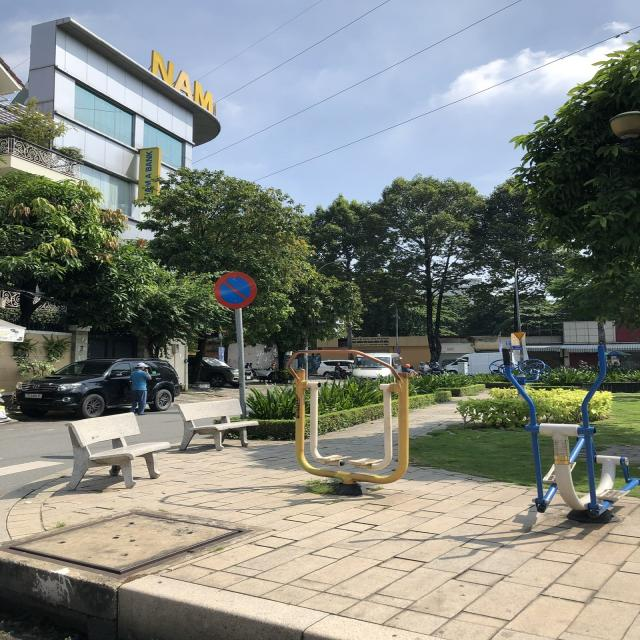Bien bao cam do xe: (208, 266, 260, 316)
